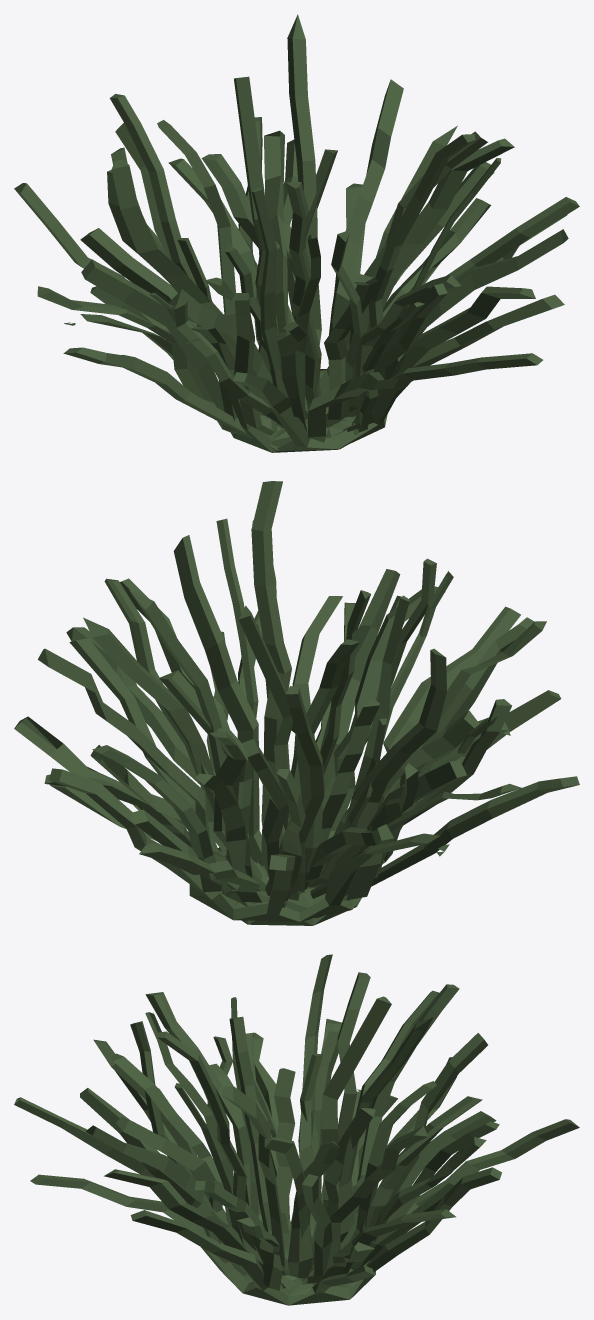
The model's file is bushShrub.fbx.
3 views of the same model, one above another, from view 1: azimuth 30°, elevation 25°; view 2: azimuth 150°, elevation 25°; view 3: azimuth 270°, elevation 25° (orthographic). The views are drawn at different scales.
Parts seen in each view (by area): view 1: greenBush; view 2: greenBush; view 3: greenBush.
Part boxes in pixels (bbox=[...]): greenBush: bbox=[14, 14, 579, 452]; greenBush: bbox=[14, 481, 579, 925]; greenBush: bbox=[14, 954, 579, 1305].
Bounding box in the file's own units: 1043 × 677 × 1163.
